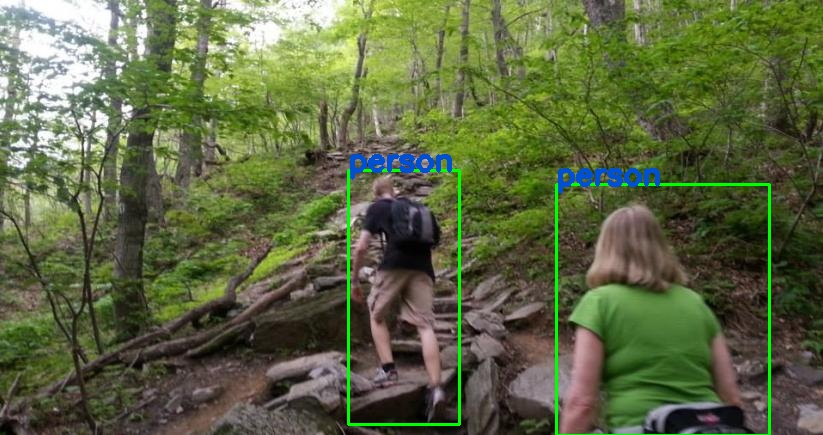person: (556, 183, 769, 434), (347, 170, 458, 424)
